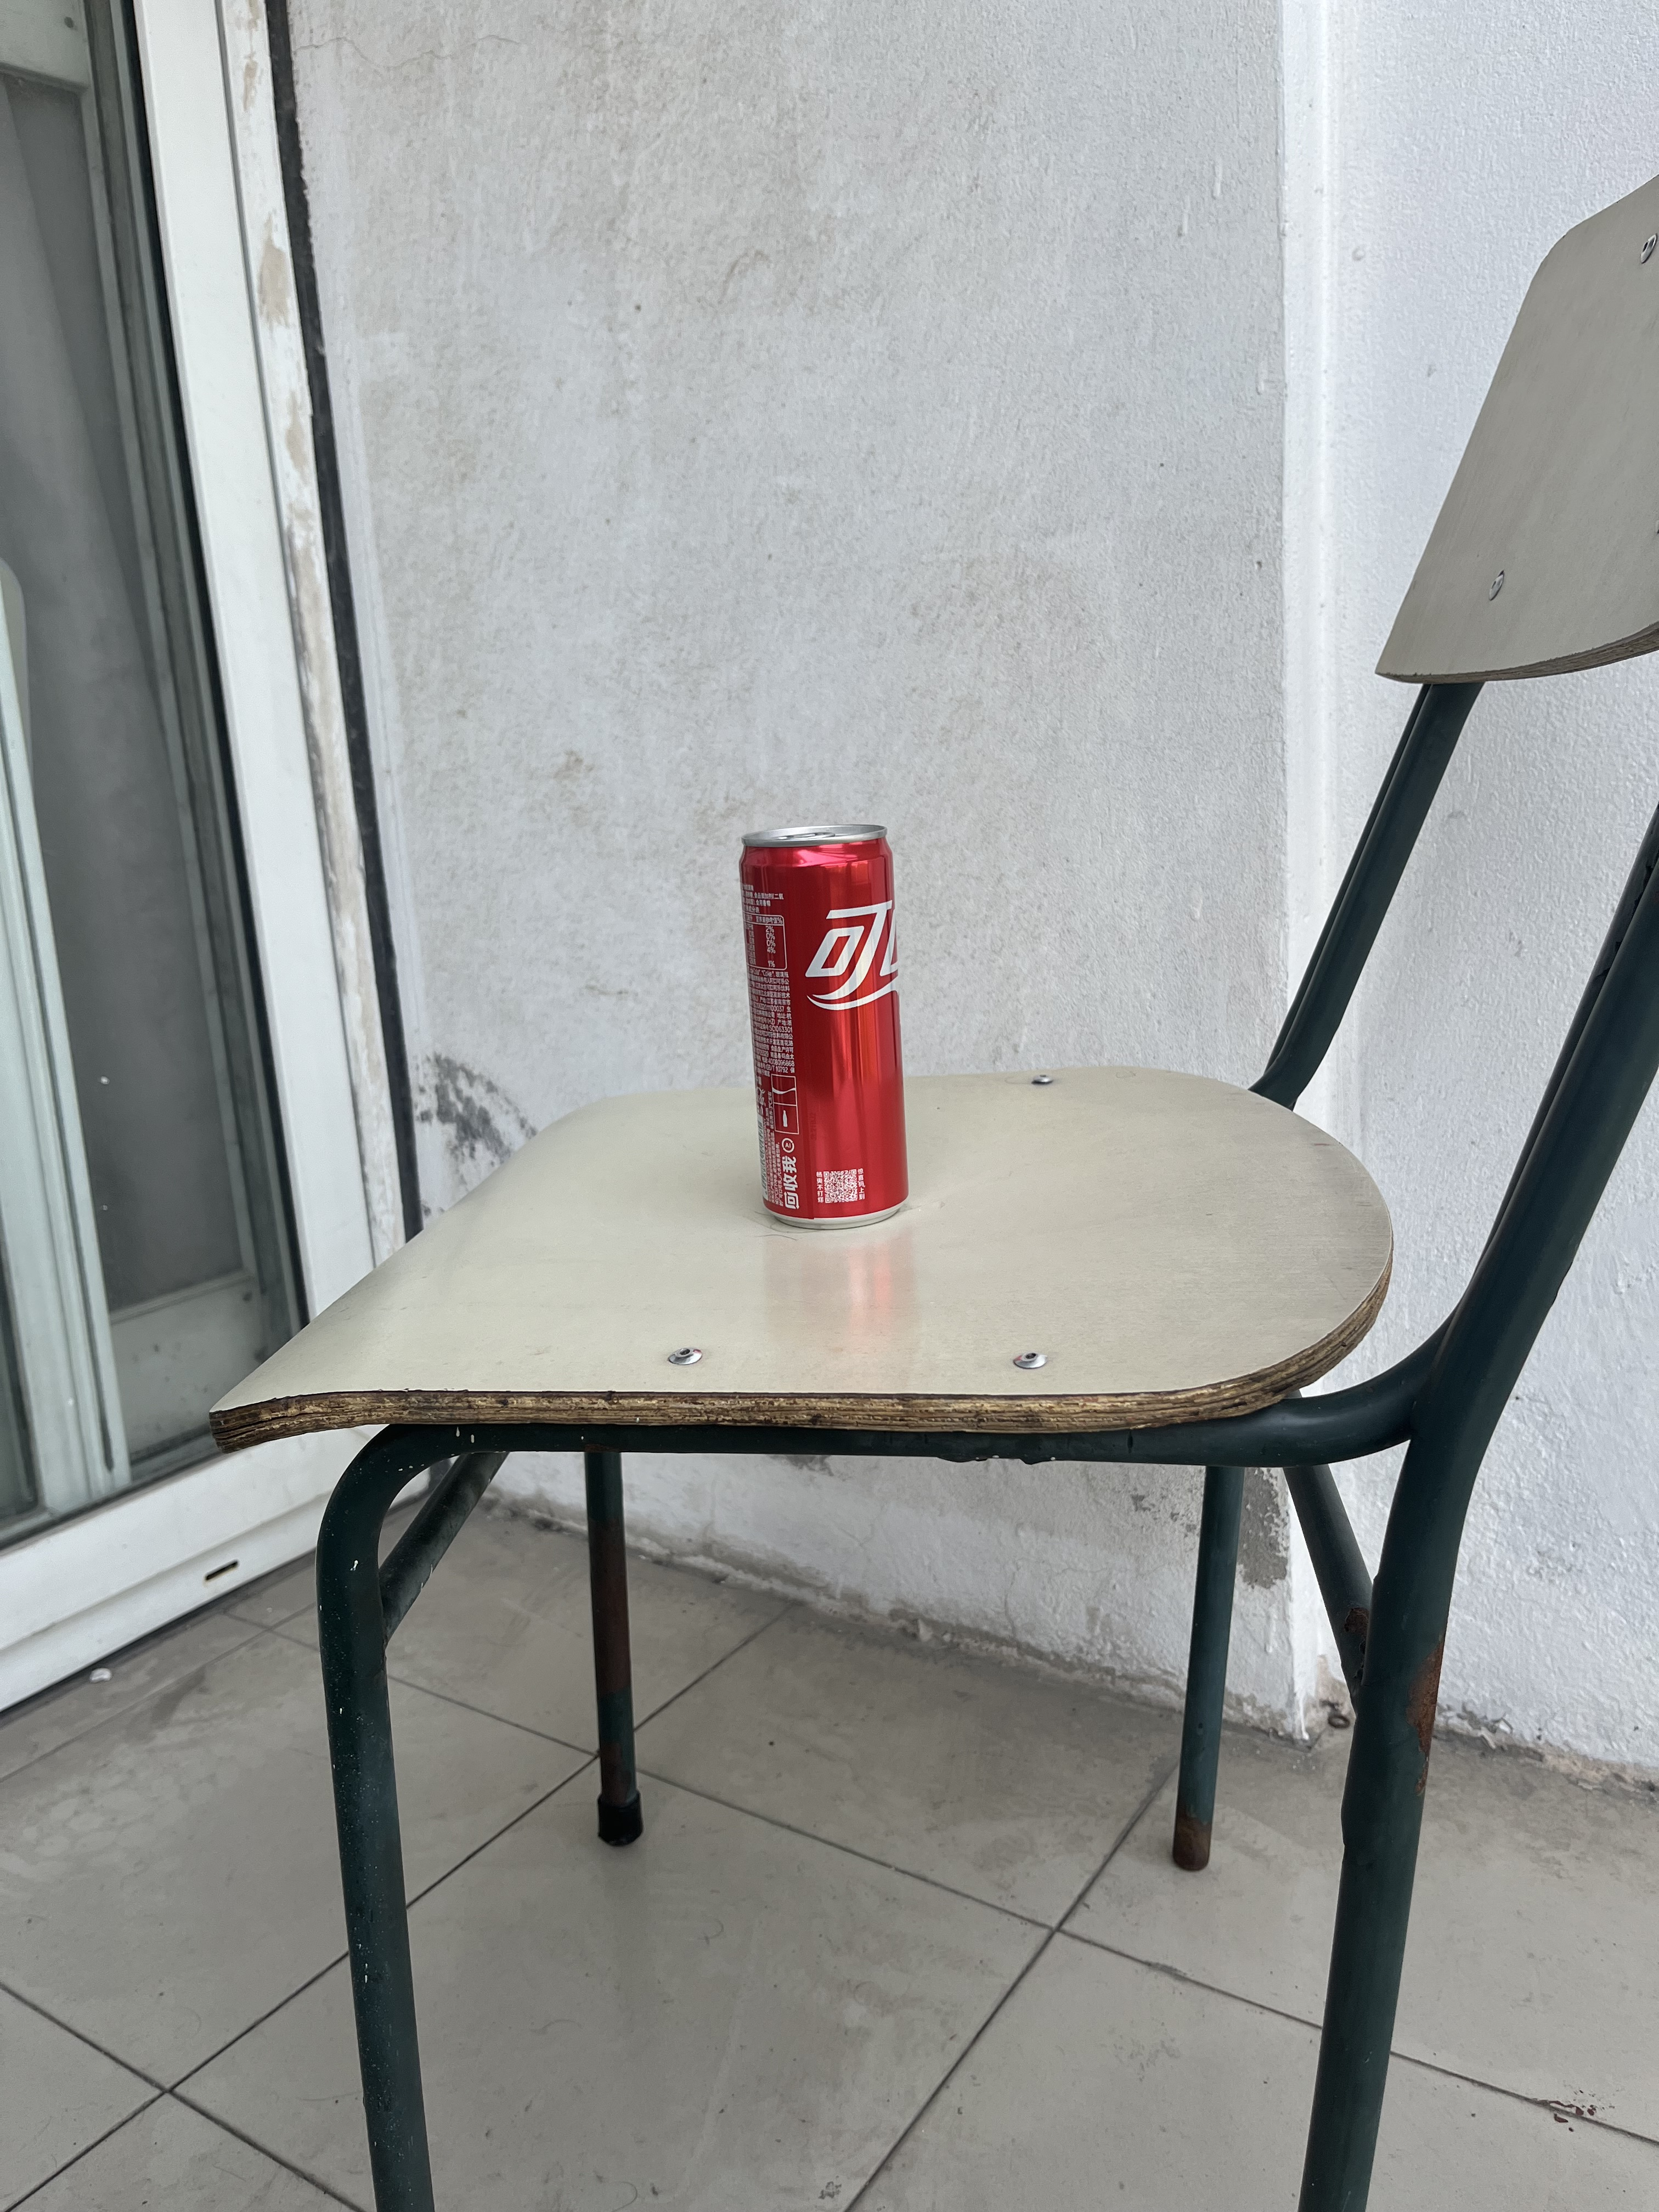CocaCola: (742, 826, 911, 1228)
